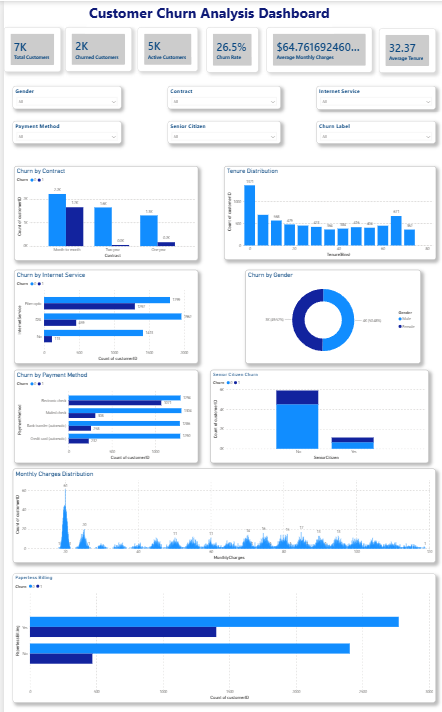

Layout of this report page (visuals, bound fields, positions):
{"tool":"powerbi","page":{"name":"Page 1","canvas":[1500,2500],"ordinal":0},"visuals":[{"type":"cardVisual","fields":{"Data":["Telco_customer_churn_clean.Total Customers"]},"box":[0,88.3,193.3,151.7],"z":0},{"type":"cardVisual","fields":{"Data":["Telco_customer_churn_clean.Churned Customers"]},"box":[210,90,226.7,150],"z":1000},{"type":"cardVisual","fields":{"Data":["Telco_customer_churn_clean.Active Customers"]},"box":[455,90,205,150],"z":2000},{"type":"cardVisual","fields":{"Data":["Telco_customer_churn_clean.Churn Rate"]},"box":[688.3,90,176.7,153.3],"z":3000},{"type":"cardVisual","fields":{"Data":["Telco_customer_churn_clean.Average Monthly Charges"]},"box":[893.3,90,360,153.3],"z":4000},{"type":"cardVisual","fields":{"Data":["Telco_customer_churn_clean.Average Tenure"]},"box":[1280,93.3,193.3,150],"z":5000},{"type":"clusteredColumnChart","title":"Churn by Contract","fields":{"Series":["Telco_customer_churn_clean.ChurnLabel"],"Category":["Telco_customer_churn_clean.Contract"],"Y":["Sum(Telco_customer_churn_clean.Count)"]},"box":[32,564,628,322],"z":6000},{"type":"clusteredBarChart","title":"Churn by Internet Service","fields":{"Series":["Telco_customer_churn_clean.ChurnLabel"],"Category":["Telco_customer_churn_clean.InternetService"],"Y":["Sum(Telco_customer_churn_clean.Count)"]},"box":[32,916,628,320],"z":7000},{"type":"clusteredBarChart","title":"Churn by Payment Method","fields":{"Series":["Telco_customer_churn_clean.ChurnLabel"],"Category":["Telco_customer_churn_clean.PaymentMethod"],"Y":["Sum(Telco_customer_churn_clean.Count)"]},"box":[32,1258,628,318],"z":8000},{"type":"clusteredColumnChart","title":"Monthly Charges Distribution","fields":{"Category":["Telco_customer_churn_clean.MonthlyCharges"],"Y":["Sum(Telco_customer_churn_clean.Count)"]},"box":[31.7,1591.7,1441.7,321.7],"z":9000},{"type":"clusteredColumnChart","title":"Tenure Distribution","fields":{"Category":["Telco_customer_churn_clean.TenureMonths (bins)"],"Y":["Sum(Telco_customer_churn_clean.Count)"]},"box":[750,563.3,723.3,320],"z":10000},{"type":"donutChart","title":"Churn by Gender","fields":{"Category":["Telco_customer_churn_clean.Gender"],"Y":["Sum(Telco_customer_churn_clean.Count)"]},"box":[823.3,916.7,598.3,320],"z":11000},{"type":"columnChart","title":"Senior Citizen Churn","fields":{"Category":["Telco_customer_churn_clean.SeniorCitizen"],"Series":["Telco_customer_churn_clean.ChurnLabel"],"Y":["Sum(Telco_customer_churn_clean.Count)"]},"box":[701.7,1258.3,745,318.3],"z":12000},{"type":"clusteredBarChart","title":"Paperless Billing","fields":{"Series":["Telco_customer_churn_clean.ChurnLabel"],"Category":["Telco_customer_churn_clean.PaperlessBilling"],"Y":["Sum(Telco_customer_churn_clean.Count)"]},"box":[31.7,1953.3,1441.7,440],"z":13000},{"type":"slicer","title":"Gender","fields":{"Values":["Telco_customer_churn_clean.Gender"]},"box":[31.7,290,370,78.3],"z":14000},{"type":"slicer","title":"Contract","fields":{"Values":["Telco_customer_churn_clean.Contract"]},"box":[556.7,290,385,78.3],"z":15000},{"type":"slicer","title":"Internet Service","fields":{"Values":["Telco_customer_churn_clean.InternetService"]},"box":[1066.7,290,406.7,80],"z":16000},{"type":"slicer","title":"Payment Method","fields":{"Values":["Telco_customer_churn_clean.PaymentMethod"]},"box":[31.7,410,370,76.7],"z":17000},{"type":"slicer","title":"Senior Citizen","fields":{"Values":["Telco_customer_churn_clean.SeniorCitizen"]},"box":[556.7,410,385,76.7],"z":18000},{"type":"slicer","title":"Churn Label","fields":{"Values":["Telco_customer_churn_clean.ChurnLabel"]},"box":[1066.7,410,406.7,76.7],"z":19000},{"type":"textbox","box":[282.5,0,837.5,87.5],"z":20000}]}

Visuals, with their boxes in screenshot pixels (x1, y1, x2, y2):
cardVisual - Telco_customer_churn_clean.Total Customers: bbox=[6, 29, 62, 74]
cardVisual - Telco_customer_churn_clean.Churned Customers: bbox=[67, 30, 133, 74]
cardVisual - Telco_customer_churn_clean.Active Customers: bbox=[138, 30, 198, 74]
cardVisual - Telco_customer_churn_clean.Churn Rate: bbox=[206, 30, 257, 75]
cardVisual - Telco_customer_churn_clean.Average Monthly Charges: bbox=[266, 30, 371, 75]
cardVisual - Telco_customer_churn_clean.Average Tenure: bbox=[378, 31, 435, 75]
"Churn by Contract" clusteredColumnChart: bbox=[15, 168, 198, 262]
"Churn by Internet Service" clusteredBarChart: bbox=[15, 270, 198, 364]
"Churn by Payment Method" clusteredBarChart: bbox=[15, 370, 198, 463]
"Monthly Charges Distribution" clusteredColumnChart: bbox=[15, 467, 435, 561]
"Tenure Distribution" clusteredColumnChart: bbox=[224, 168, 435, 261]
"Churn by Gender" donutChart: bbox=[245, 271, 420, 364]
"Senior Citizen Churn" columnChart: bbox=[210, 370, 427, 463]
"Paperless Billing" clusteredBarChart: bbox=[15, 572, 435, 701]
"Gender" slicer: bbox=[15, 88, 123, 111]
"Contract" slicer: bbox=[168, 88, 280, 111]
"Internet Service" slicer: bbox=[316, 88, 435, 111]
"Payment Method" slicer: bbox=[15, 123, 123, 145]
"Senior Citizen" slicer: bbox=[168, 123, 280, 145]
"Churn Label" slicer: bbox=[316, 123, 435, 145]
textbox: bbox=[88, 4, 332, 29]
